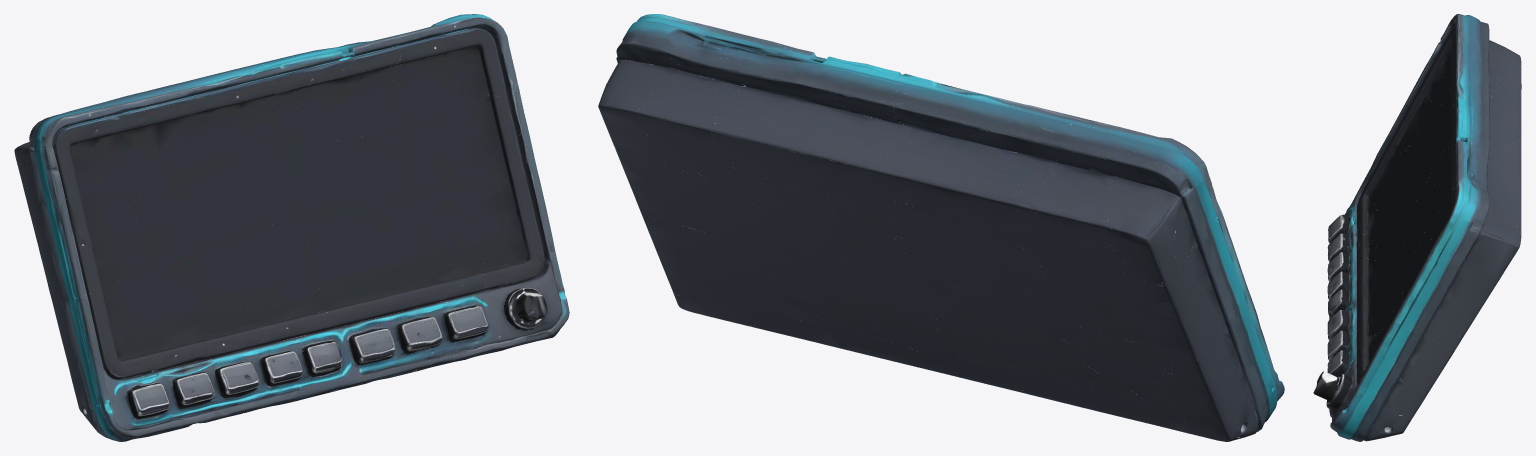
The model's file is side_console.glb.
The picture shows the model from 3 angles, left to right: view 1: azimuth 30°, elevation 25°; view 2: azimuth 150°, elevation 25°; view 3: azimuth 270°, elevation 25°; orthographic projection. The views are drawn at different scales.
Parts seen in each view (by area): view 1: tripo_node_66a6403d-edb9-4d59-843d-719104f2264a; view 2: tripo_node_66a6403d-edb9-4d59-843d-719104f2264a; view 3: tripo_node_66a6403d-edb9-4d59-843d-719104f2264a.
Part boxes in pixels (x1,y1,x2,y2): tripo_node_66a6403d-edb9-4d59-843d-719104f2264a: [14, 14, 569, 441]; tripo_node_66a6403d-edb9-4d59-843d-719104f2264a: [598, 14, 1284, 441]; tripo_node_66a6403d-edb9-4d59-843d-719104f2264a: [1313, 14, 1521, 441].
Bounding box in the file's own units: 0.5 × 0.2884 × 0.22.
Materials: 1 (1 with a texture image).
